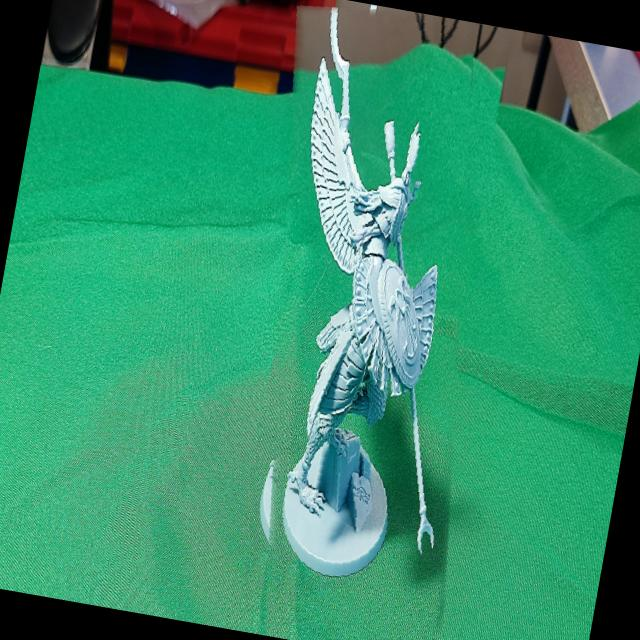isis: (206, 0, 530, 640)
